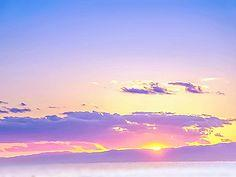sky_cloud: (1, 28, 235, 106)
